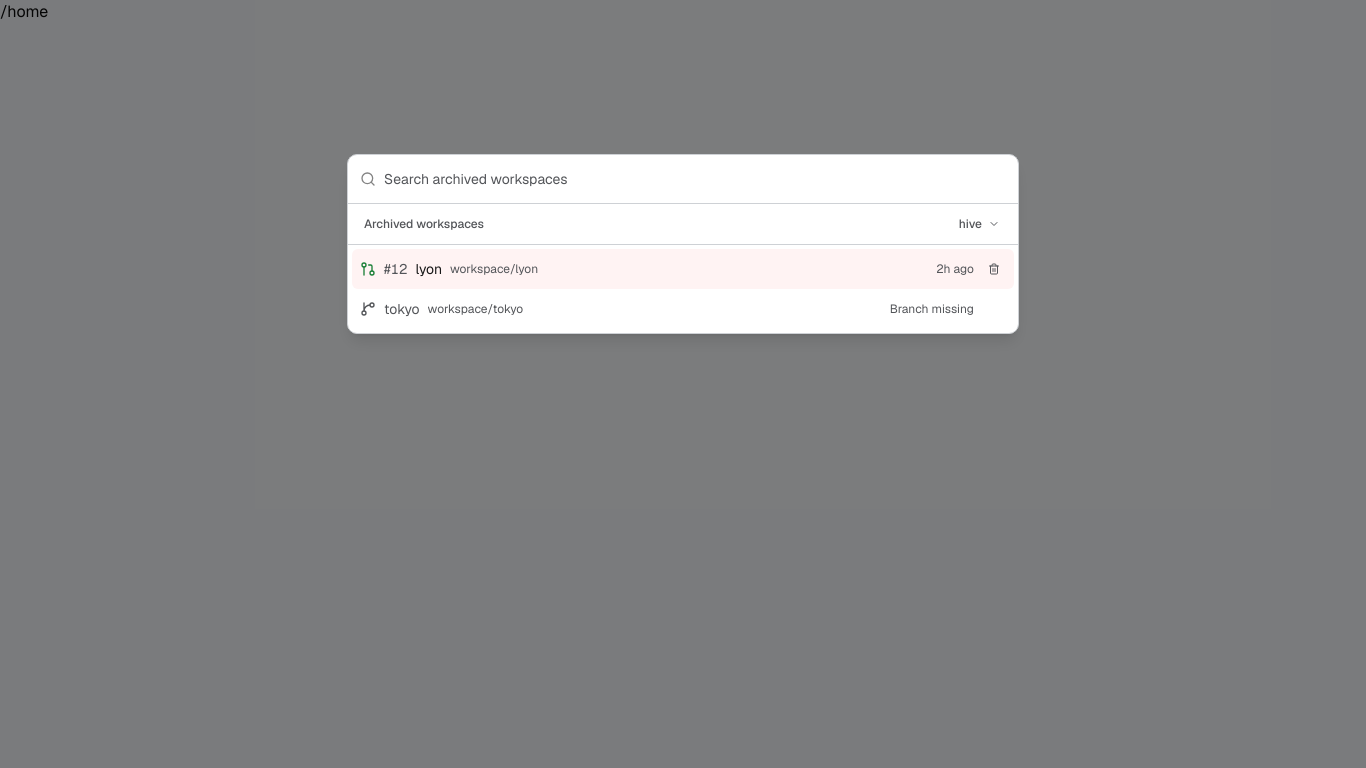
Scenario: RestoreWorkspaceDialog › filters rows by name, branch, or source number
Expected: the text "lyon" is shown, x1=416 y1=259 x2=442 y2=279
Type "tok" into the field with placeholder "Search archived workspaces".
click(695, 179); type("tok")  # box x1=384 y1=155 x2=1006 y2=203
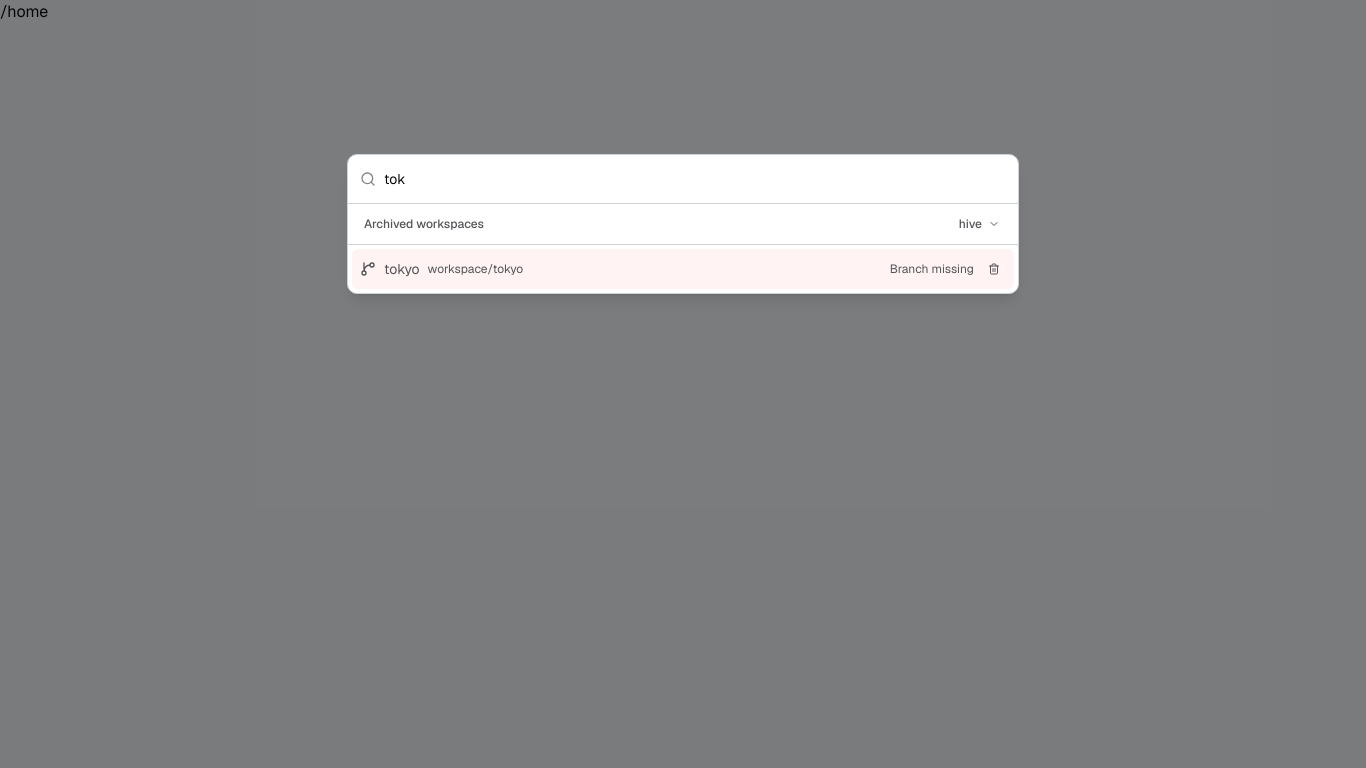
Expected: the option shows "tokyo", x1=352 y1=249 x2=1014 y2=289
Now the number of options is 1, box x1=352 y1=249 x2=1014 y2=289
Replace the text in the field with placeholder "Search archived workspaces" with "#12" at (695, 179), box x1=384 y1=155 x2=1006 y2=203
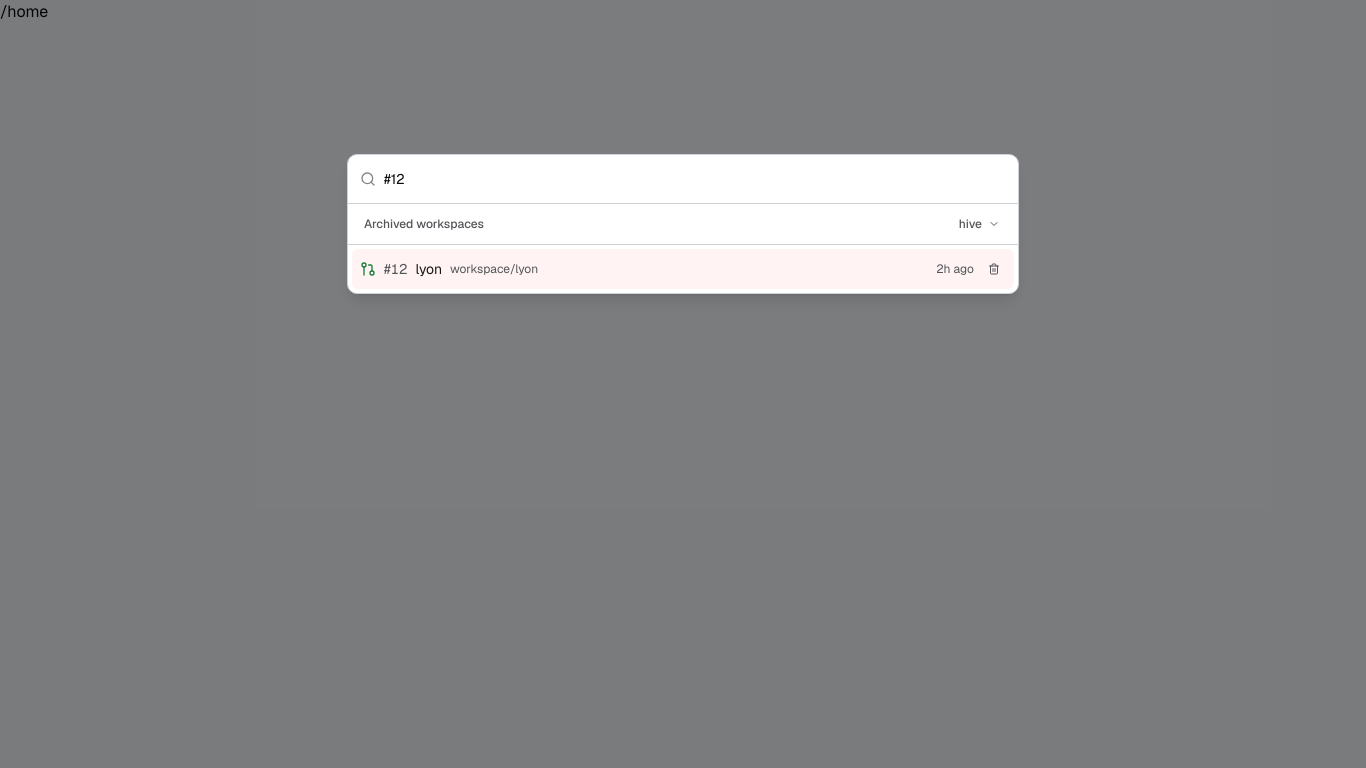
Now the option shows "lyon", box x1=352 y1=249 x2=1014 y2=289
Type "zzz" into the field with placeholder "Search archived workspaces".
click(695, 179); type("zzz")  # box x1=384 y1=155 x2=1006 y2=203
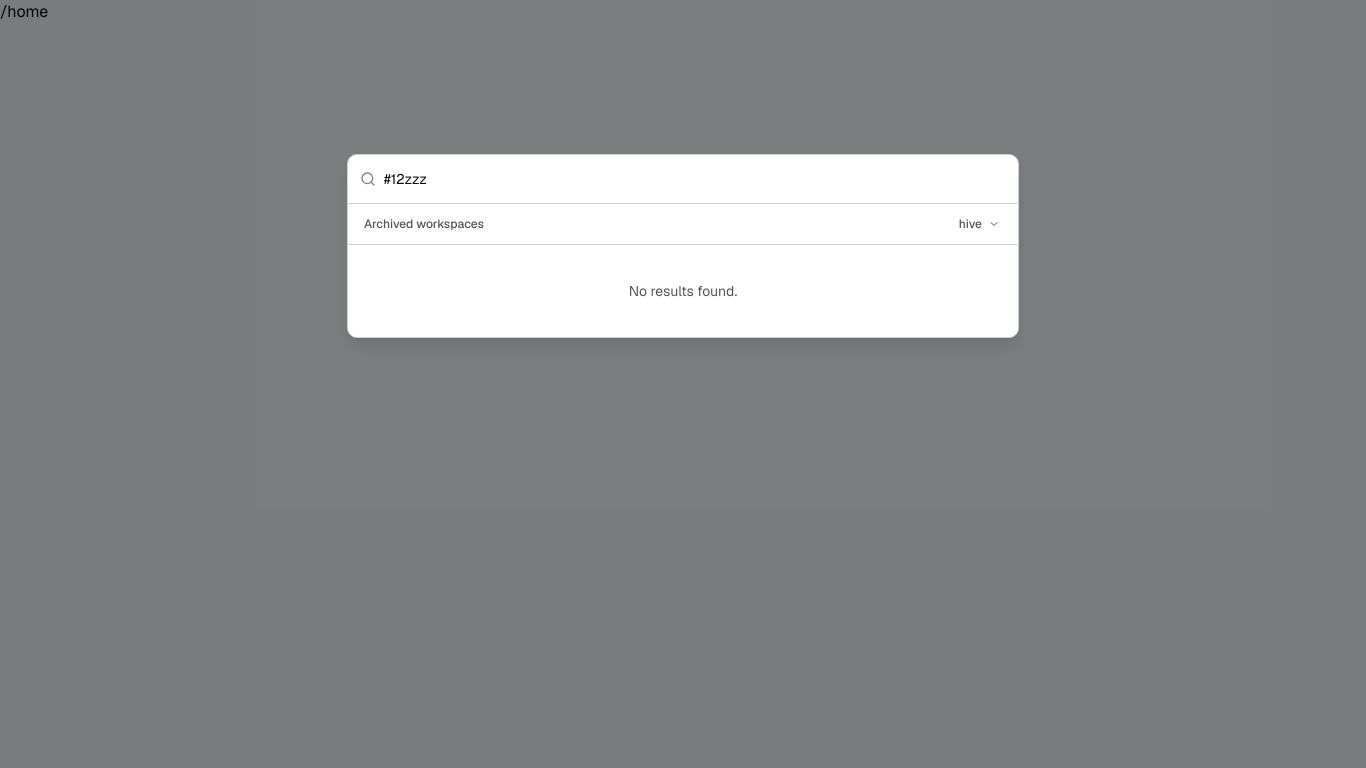
Now the text "No results found." is shown, box x1=629 y1=282 x2=737 y2=300
